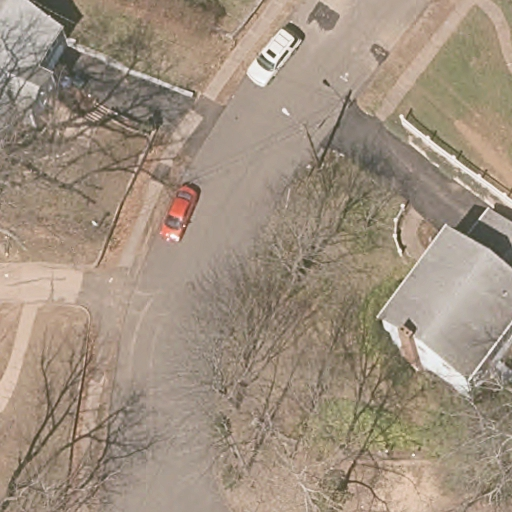DT: (300, 123, 332, 176)
